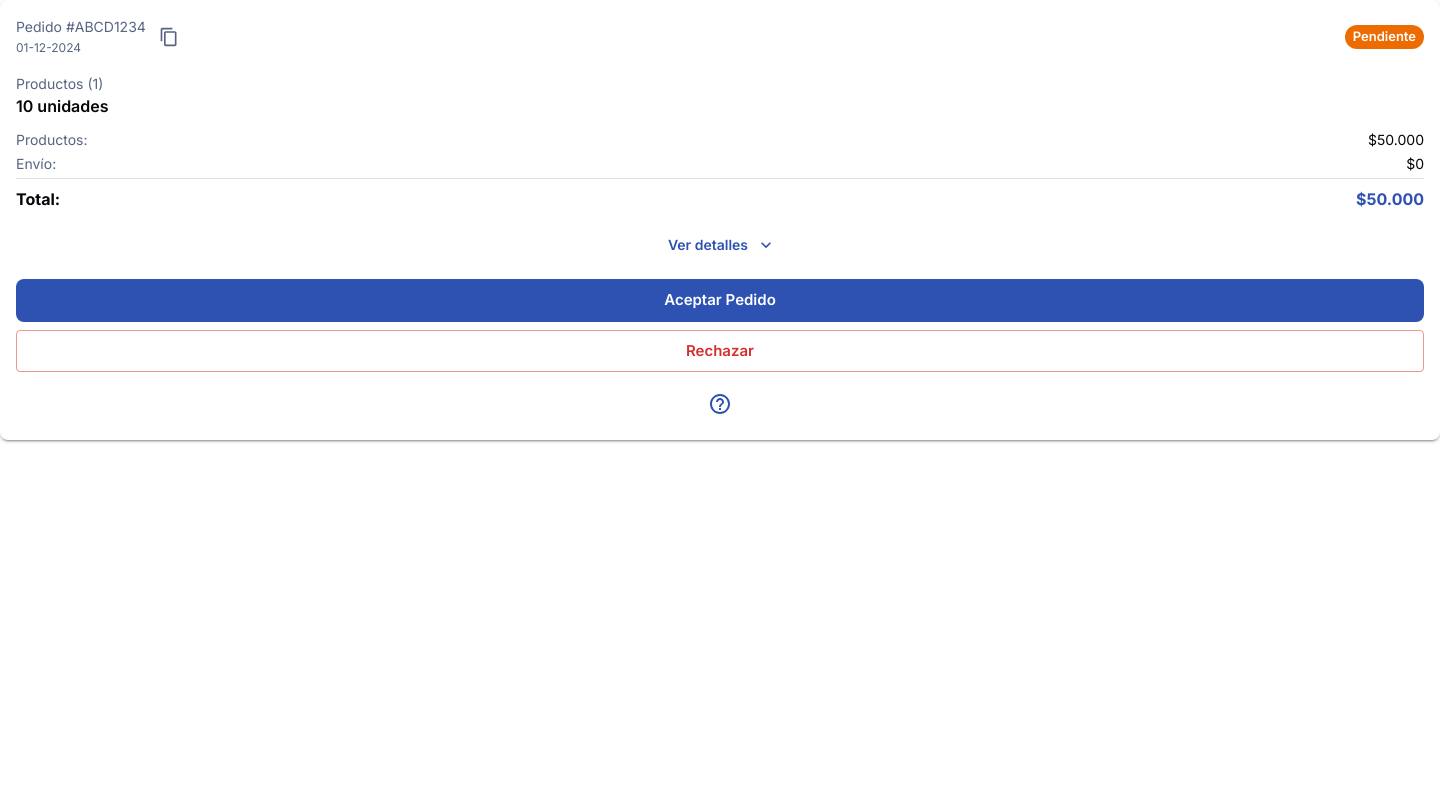
Test: MobileOrderCard Component › Expansión de Detalles › debería mostrar productos cuando está expandido
Click the button "Ver detalles". click: (720, 245)
box: [16,227,1424,263]
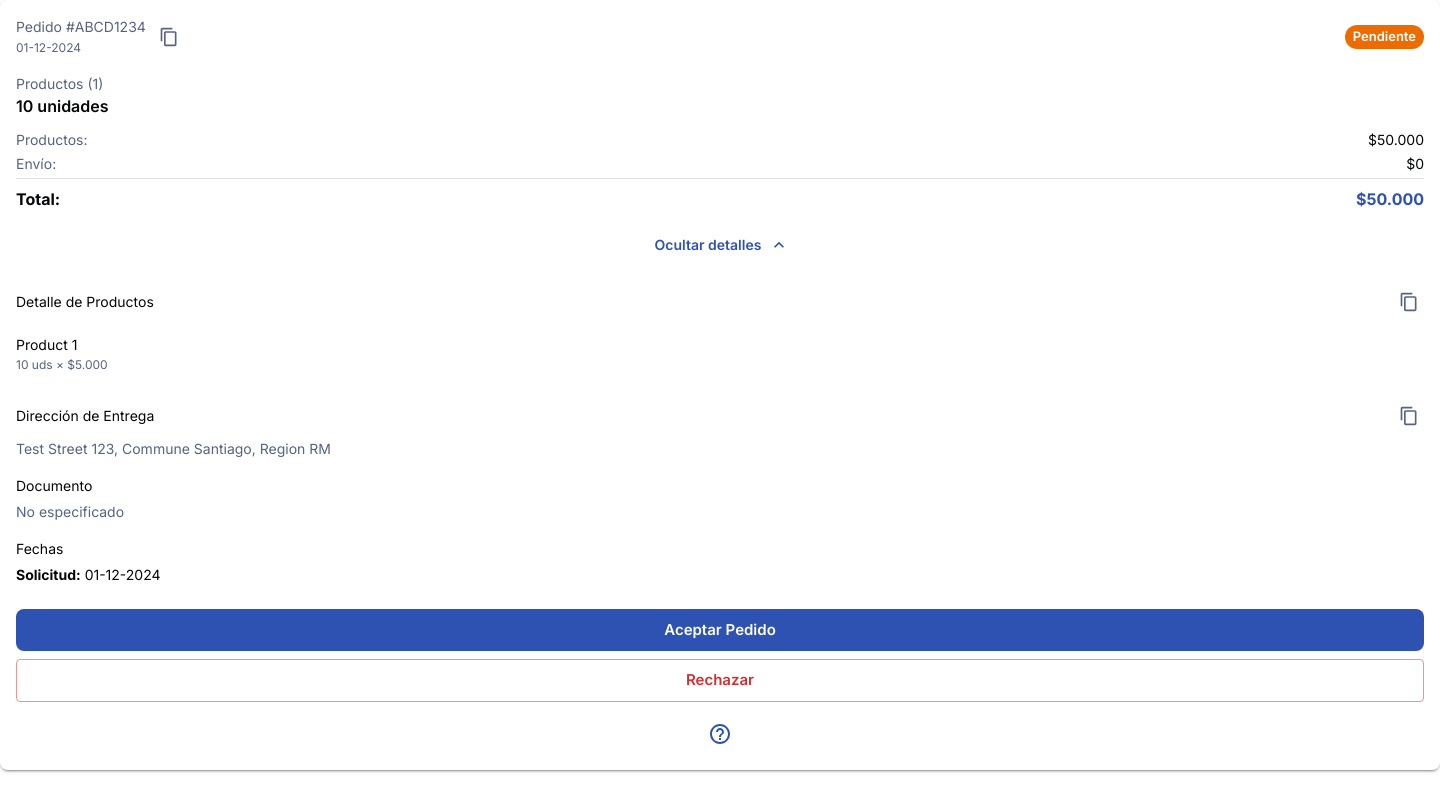
Expected: the text "Product 1" is shown, [16,336,77,353]
Expected: the text "10 uds × $5.000" is shown, [16,357,108,372]
